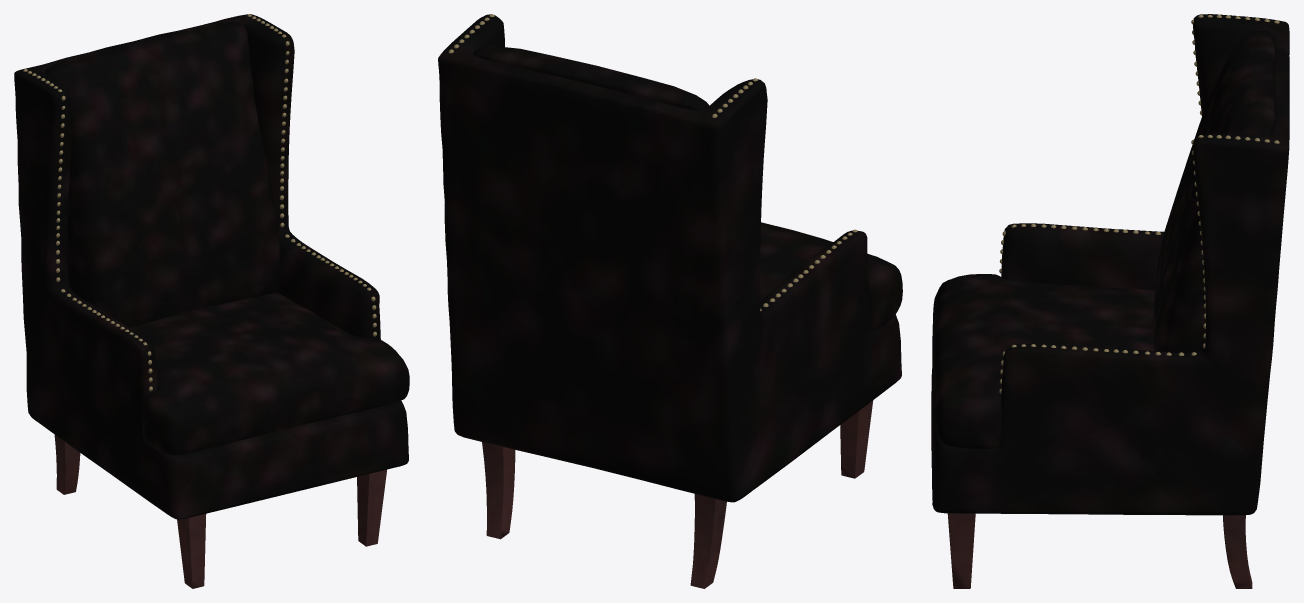
3 renders of one model, left to right at view 1: azimuth 30°, elevation 25°; view 2: azimuth 150°, elevation 25°; view 3: azimuth 270°, elevation 25°, orthographic. The views are drawn at different scales.
Parts seen in each view (by area): view 1: RootNode; view 2: RootNode; view 3: RootNode.
Part boxes in pixels (left/top/right/bottom): RootNode: left=14, top=14, right=409, bottom=588; RootNode: left=438, top=14, right=902, bottom=588; RootNode: left=931, top=14, right=1289, bottom=588.
Bounding box in the file's own units: 0.7066 × 1.15 × 0.8033.
1 material, 1 textured.
